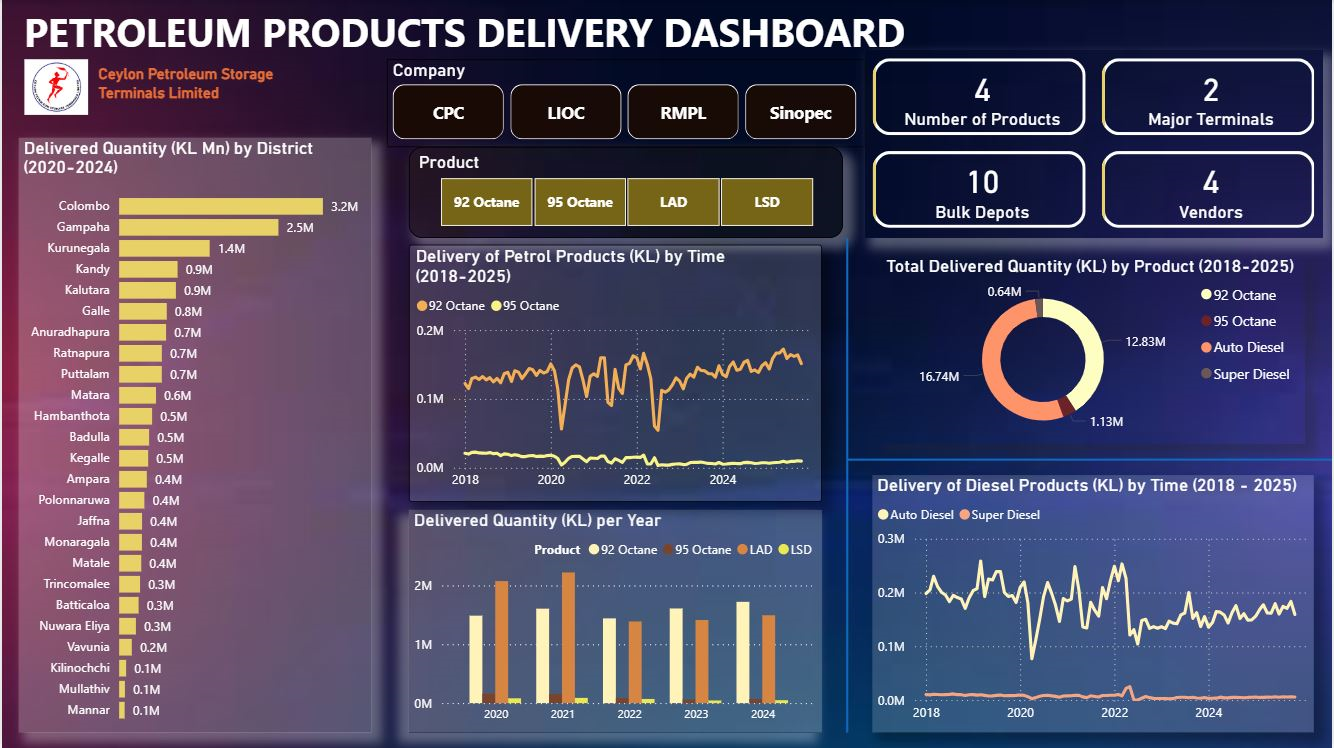

The page's visual inventory and layout, read from the dashboard file:
{"tool":"powerbi","page":{"name":"Page 1","canvas":[1280,720],"ordinal":0},"visuals":[{"type":"textbox","box":[15.8,0,868.2,70.6],"z":0},{"type":"advancedSlicerVisual","fields":{"Values":["Sheet1.Company"]},"box":[370.6,57,459.8,84.3],"z":1000},{"type":"cardVisual","fields":{"Data":["Sum(Sheet3.Number of Products)","Count(Sheet3.Number of Terminals)","Sum(Sheet3.Number of Depots)","Count(Sheet1.Company)"]},"box":[830.4,48.3,441.2,180.9],"z":2000},{"type":"clusteredColumnChart","title":"Delivered Quantity (KL) per Year","fields":{"Category":["Sheet1.Year"],"Y":["Sum(Sheet1.Quantity (KL))"],"Series":["Sheet1.Product"]},"box":[391.6,490.8,397.8,214.4],"z":3000},{"type":"donutChart","title":"Total Delivered Quantity (KL) by Product (2018-2025)","fields":{"Y":["Sum(total (2).92 Octane)","Sum(total (2).95 Octane)","Sum(total (2).LAD)","Sum(total (2).LSD)"]},"box":[846.5,246.6,407.7,180.9],"z":4000},{"type":"clusteredBarChart","title":"Delivered Quantity (KL Mn) by District (2020-2024)","fields":{"Category":["Sheet1.District"],"Y":["Sum(Sheet1.Quantity (KL))"]},"box":[16.1,132.6,339.6,572.6],"z":5000},{"type":"slicer","title":"Product","fields":{"Values":["Sheet1.Product"]},"box":[391.6,141.3,417.7,88],"z":6000},{"type":"lineChart","title":"Delivery of Petrol Products (KL) by Time (2018-2025)","fields":{"Y":["Sum(Append1.92 Octane)","Sum(Append1.95 Octane)"],"Category":["Append1.Time.Variation.Date Hierarchy.Year","Append1.Time.Variation.Date Hierarchy.Month"]},"box":[391.6,235.5,397.8,247.9],"z":7000},{"type":"lineChart","title":"Delivery of Diesel Products (KL) by Time (2018 - 2025)","fields":{"Y":["Sum(Append1.LAD)","Sum(Append1.LSD)"],"Category":["Append1.Time.Variation.Date Hierarchy.Year","Append1.Time.Variation.Date Hierarchy.Month"]},"box":[837.8,457.3,425.1,247.9],"z":9000},{"type":"image","box":[16.1,57,71.9,53.3],"z":10000},{"type":"textbox","box":[88,57,233,53.3],"z":11000},{"type":"shape","box":[814.2,427.6,466,29.7],"z":12000},{"type":"shape","box":[809.3,229.3,8.7,475.9],"z":13000}]}

Visuals, with their boxes in screenshot pixels (x1, y1, x2, y2), scaled from the page's 1280x720 canvas onto the 1334x748 screenshot:
textbox: 16/0/921/73
advancedSlicerVisual - Sheet1.Company: 386/59/865/147
cardVisual - Sum(Sheet3.Number of Products) x Count(Sheet3.Number of Terminals): 865/50/1325/238
"Delivered Quantity (KL) per Year" clusteredColumnChart: 408/510/823/733
"Total Delivered Quantity (KL) by Product (2018-2025)" donutChart: 882/256/1307/444
"Delivered Quantity (KL Mn) by District (2020-2024)" clusteredBarChart: 17/138/371/733
"Product" slicer: 408/147/843/238
"Delivery of Petrol Products (KL) by Time (2018-2025)" lineChart: 408/245/823/502
"Delivery of Diesel Products (KL) by Time (2018 - 2025)" lineChart: 873/475/1316/733
image: 17/59/92/115
textbox: 92/59/335/115
shape: 849/444/1333/475
shape: 843/238/853/733
